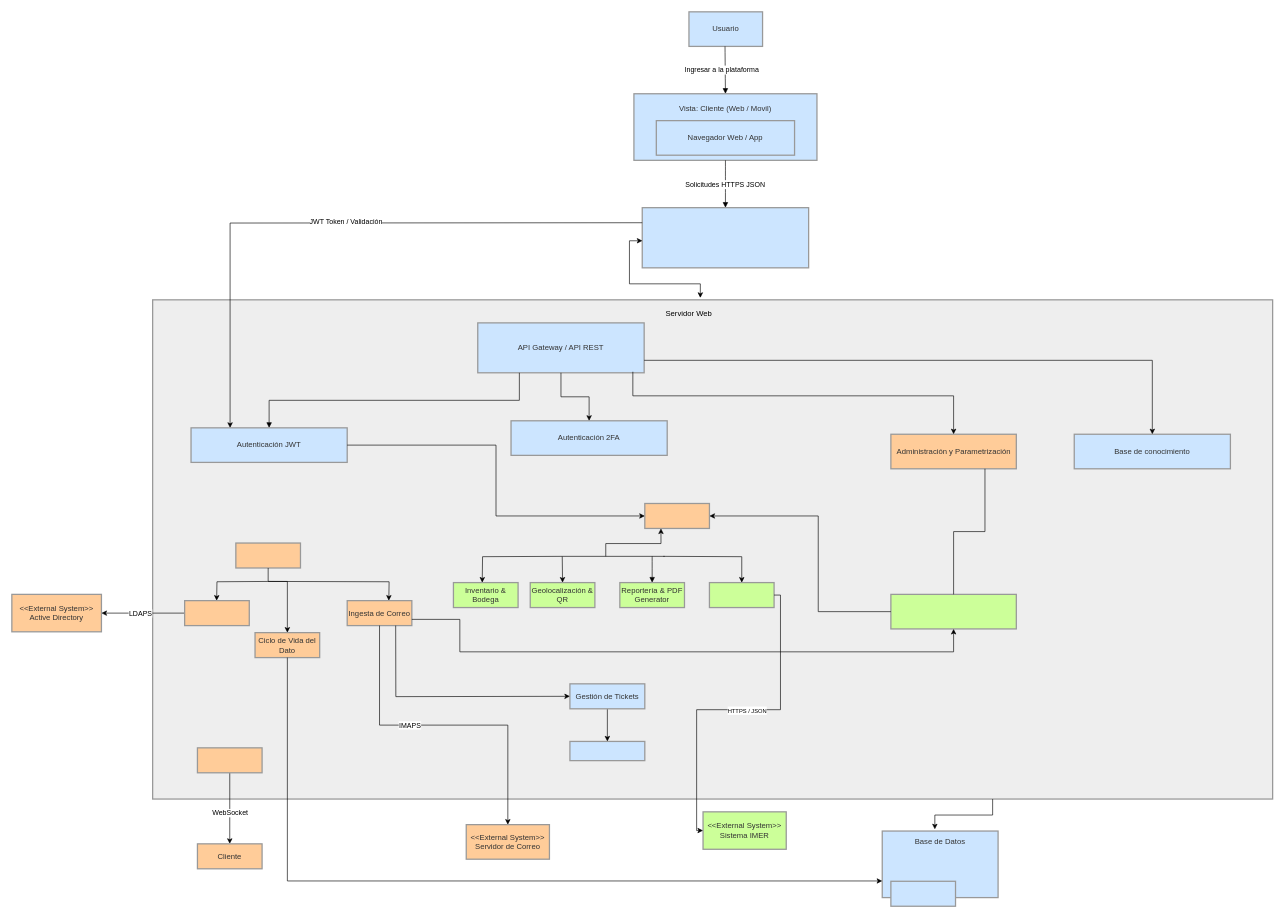
The diagram is 1284 pixels wide and 918 high, and some of its shapes have lost their labels. The shapes that lost their labels are listed below. From the top down, each one's centre as x and y in pixels, then its label:
At pixel 725 237: "«Middleware» Body-parser / Validador Integridad".
At pixel 677 516: "Auditoría de Fallos".
At pixel 268 555: "Planificador de Tareas".
At pixel 217 613: "Sincronización de Identidades".
At pixel 741 595: "Integración IMER".
At pixel 953 611: "Motor de SLA y Asignación".
At pixel 229 760: "Monitoreo de Personal".
At pixel 607 750: "Notificaciones".
At pixel 923 893: "MySQL".
